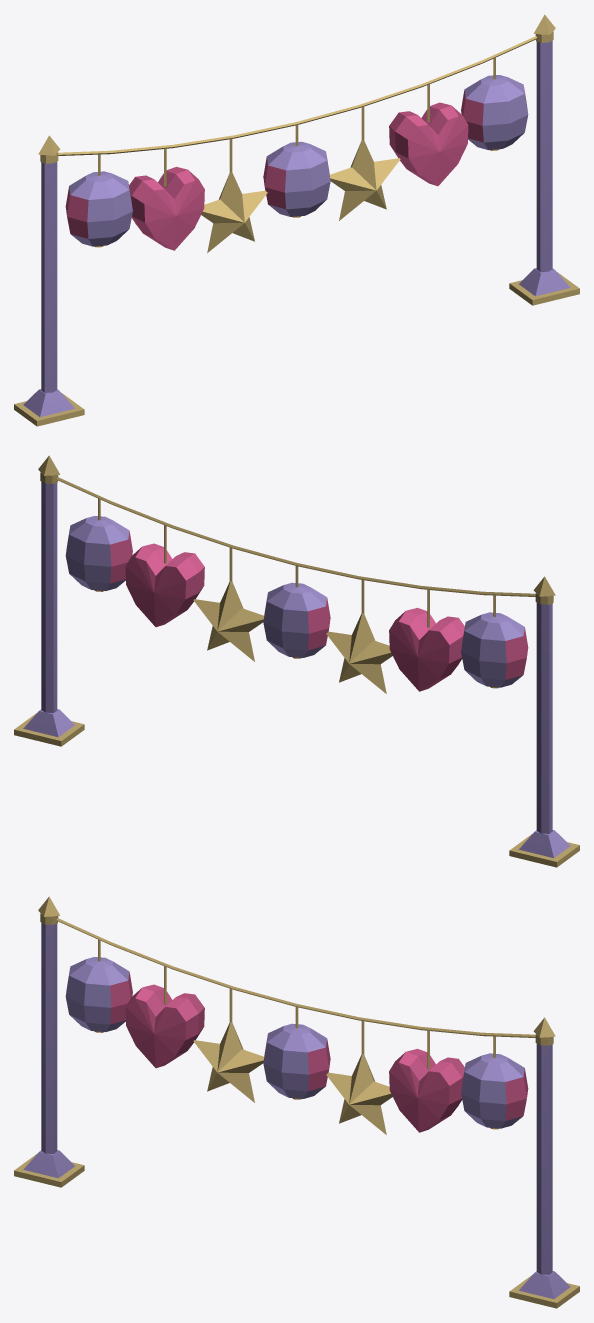
Rendered from lantern-string.glb.
3 views of the same model, one above another, from view 1: azimuth 30°, elevation 25°; view 2: azimuth 150°, elevation 25°; view 3: azimuth 330°, elevation 25° (orthographic).
Parts seen in each view (by area): view 1: swing1_mesh, root_mesh, swing0_mesh; view 2: swing1_mesh, root_mesh, swing0_mesh; view 3: swing1_mesh, root_mesh, swing0_mesh.
Part boxes in pixels (box(x1,y1,x2,y2)): swing1_mesh: box(263, 57, 528, 220); root_mesh: box(14, 14, 579, 426); swing0_mesh: box(65, 138, 267, 252); swing1_mesh: box(65, 498, 330, 661); root_mesh: box(14, 455, 579, 867); swing0_mesh: box(326, 579, 528, 693); swing1_mesh: box(263, 1006, 528, 1134); root_mesh: box(14, 896, 579, 1308); swing0_mesh: box(65, 939, 264, 1102).
Bounding box in the file's own units: 4.1 × 2 × 0.4.
